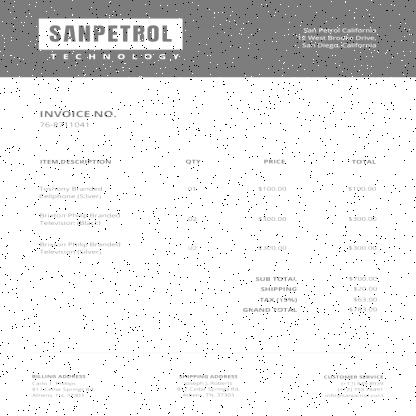Paragraph: (238, 272, 382, 318), (38, 18, 183, 62), (293, 25, 381, 52), (34, 106, 122, 132), (170, 371, 244, 401), (27, 371, 98, 401)
Table: (33, 155, 382, 262)
